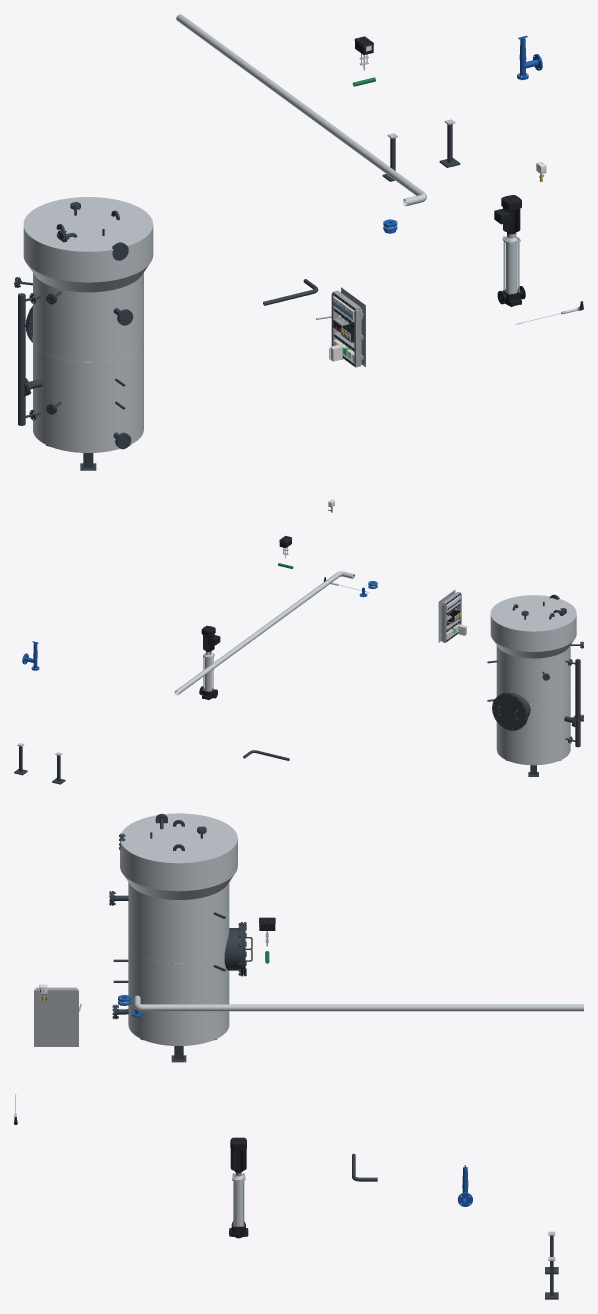
3 views of the same model, one above another, from view 1: azimuth 30°, elevation 25°; view 2: azimuth 150°, elevation 25°; view 3: azimuth 270°, elevation 25° (orthographic). The views are drawn at different scales.
Parts seen in each view (by area): view 1: deaerator / shell, safety_vent_2 / steel, cabinet_interior / cabinet_interior_0.npz, deaerator / dark, pump_2 CAD solid 15, pump_2 CAD solid 2, trap_support / dark; view 2: deaerator / shell, safety_vent_2 / steel, cabinet_interior / cabinet_interior_0.npz, DA3 CAD 76, deaerator / dark; view 3: deaerator / shell, safety_vent_2 / steel, cabinet_interior / cabinet_interior_0.npz, DA3 CAD 11.
Boxes of the visible parts, x1=… form: deaerator / shell: x1=23, y1=197, x2=153, y2=452; safety_vent_2 / steel: x1=176, y1=14, x2=426, y2=206; cabinet_interior / cabinet_interior_0.npz: x1=316, y1=287, x2=365, y2=367; deaerator / dark: x1=18, y1=293, x2=40, y2=425; pump_2 CAD solid 15: x1=494, y1=195, x2=521, y2=233; pump_2 CAD solid 2: x1=505, y1=243, x2=517, y2=293; trap_support / dark: x1=382, y1=124, x2=460, y2=181; deaerator / shell: x1=490, y1=595, x2=576, y2=765; safety_vent_2 / steel: x1=174, y1=571, x2=354, y2=695; cabinet_interior / cabinet_interior_0.npz: x1=438, y1=590, x2=461, y2=642; DA3 CAD 76: x1=492, y1=693, x2=526, y2=730; deaerator / dark: x1=565, y1=659, x2=580, y2=747; deaerator / shell: x1=120, y1=813, x2=237, y2=1045; safety_vent_2 / steel: x1=133, y1=995, x2=583, y2=1011; cabinet_interior / cabinet_interior_0.npz: x1=34, y1=987, x2=81, y2=1046; DA3 CAD 11: x1=224, y1=928, x2=240, y2=970.
Size of the model in its own units: 7.74 by 3.24 by 6.19.
